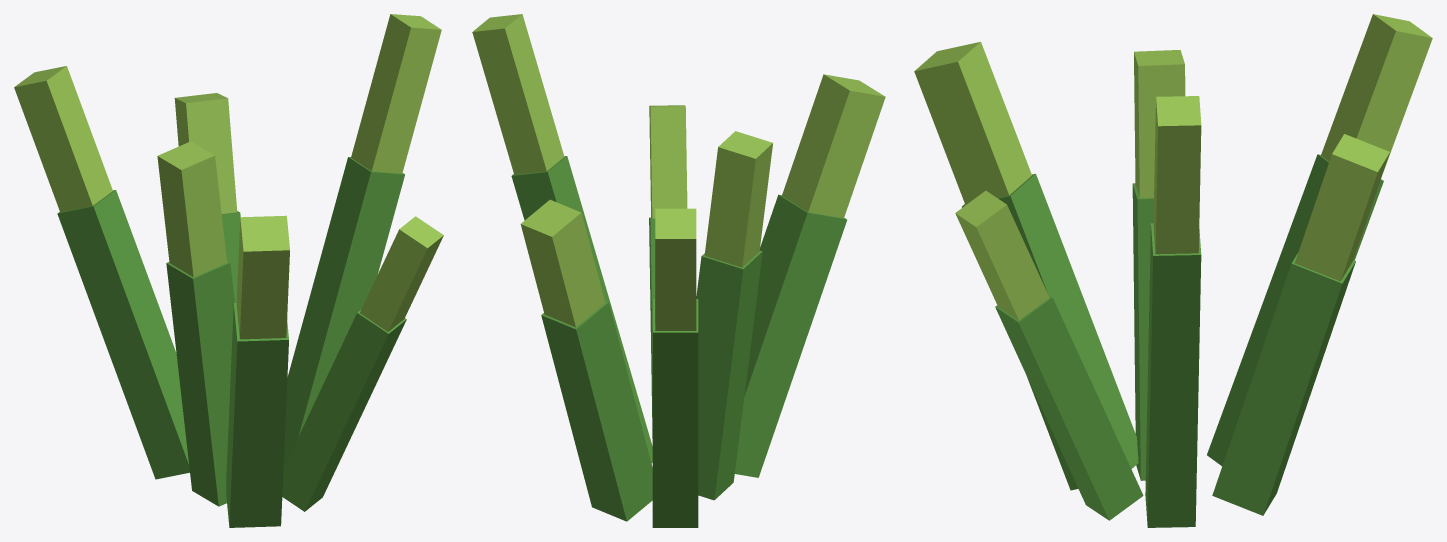
Rendered from B03_grass_tall.obj.
The picture shows the model from 3 angles, left to right: view 1: azimuth 30°, elevation 25°; view 2: azimuth 150°, elevation 25°; view 3: azimuth 270°, elevation 25°; orthographic projection. The views are drawn at different scales.
Parts seen in each view (by area): view 1: B03_grass_tall; view 2: B03_grass_tall; view 3: B03_grass_tall.
Part boxes in pixels (bbox=[...]): B03_grass_tall: bbox=[14, 14, 443, 527]; B03_grass_tall: bbox=[472, 14, 885, 527]; B03_grass_tall: bbox=[914, 14, 1432, 527].
Size of the model in its own units: 0.6724 by 0.873 by 0.8437.
